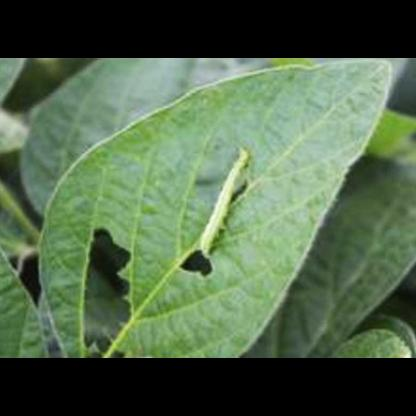agujero: (73, 226, 135, 352), (178, 249, 214, 287)
oruga: (195, 144, 254, 258)
